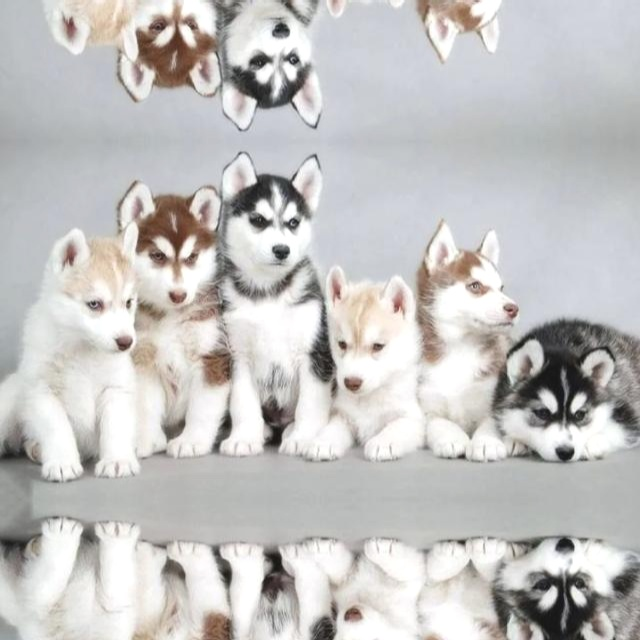dog: (208, 145, 345, 450), (110, 170, 213, 460), (416, 208, 512, 468), (207, 0, 344, 134), (207, 546, 344, 640), (109, 0, 212, 110), (415, 529, 512, 640), (109, 538, 212, 640), (415, 0, 512, 72)
